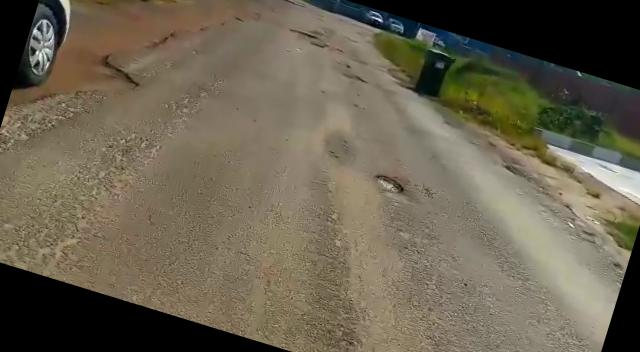pothole: (369, 169, 410, 197), (344, 70, 374, 86)
